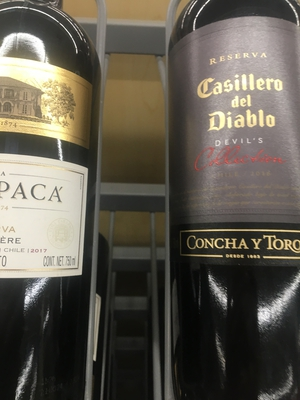casillero del diablo devils collection rojo: (157, 5, 300, 355)
